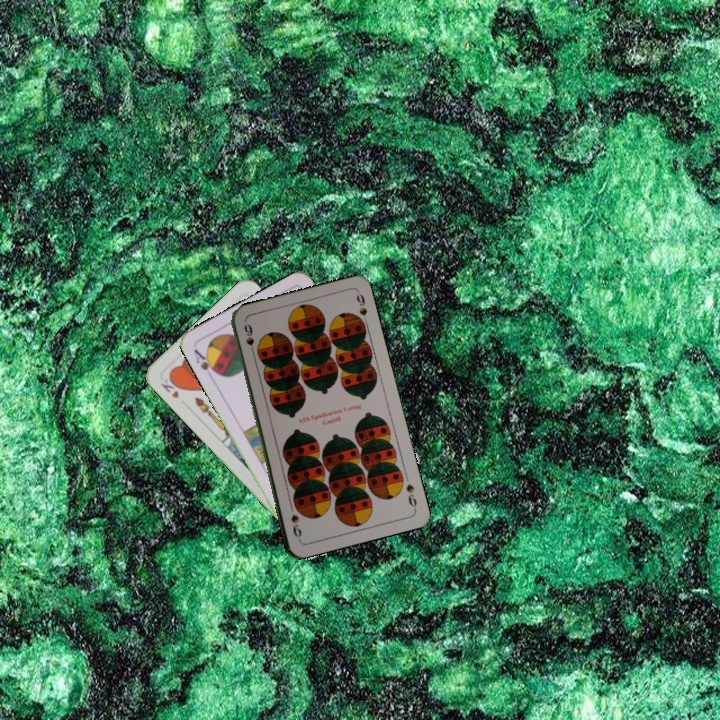HK: (157, 372, 184, 401)
S9: (240, 320, 258, 359), (402, 480, 419, 512)
SA: (190, 345, 221, 381)
